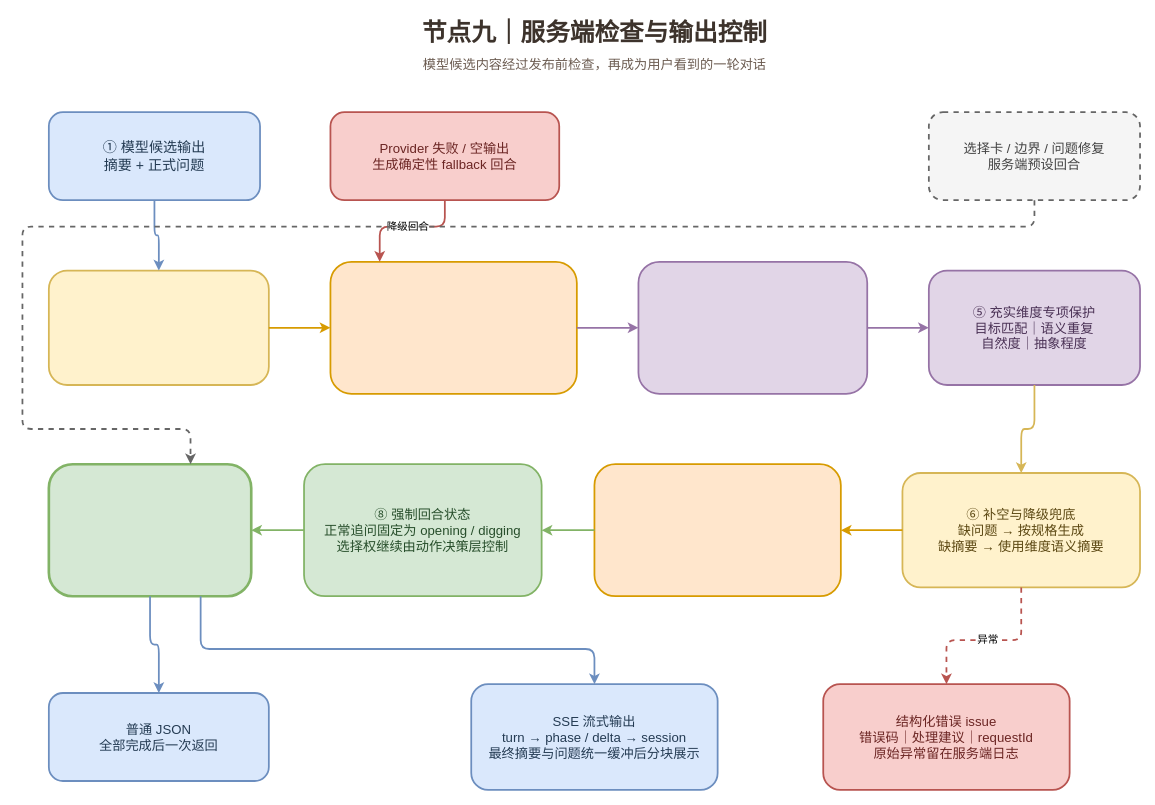
Image size: 1155x805. Some labels were removed from this diagram. Here are the shapes that lost their labels. From the top down, the centre of each, then its label:
the point at 158,327: ② 分段解析与结构规范 识别 SUMMARY / QUESTION 长度限制 + 回合 Schema
the point at 453,327: ③ 问题表达质量门 单一任务｜具体锚点｜用户词语 失败时降级；再次失败回到具体事件
the point at 752,327: ④ 继续深挖保护 思考：避开已否认场景 感谢：避开已否认假设 通用：最近四问重复检查
the point at 149,529: ⑨ 用户可见投影 浅色思路摘要 + 一个正式问题 内部分析、规格和证据状态继续隐藏
the point at 717,530: ⑦ 思路摘要重写 过滤问句、系统口吻、理论腔和浅复述 重建为维度化浅色思路
